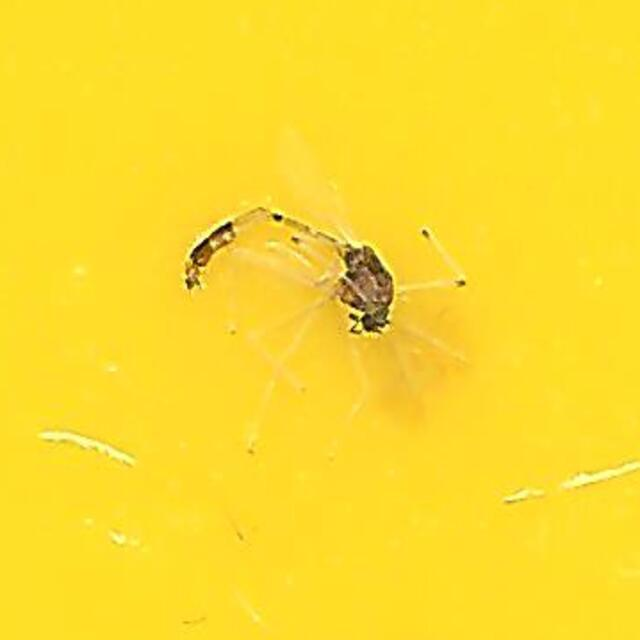Nematocera: (178, 205, 462, 435)
